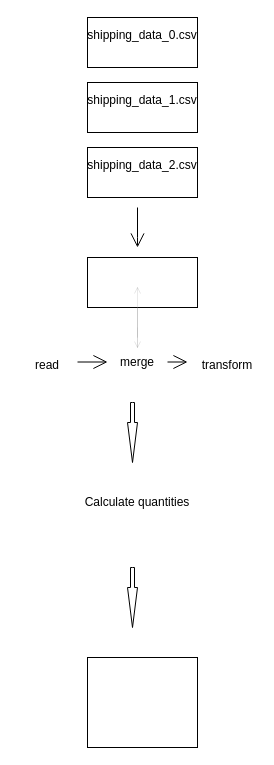
Some shapes in this 274 by 765 pixel diagram are drawn without their labels. The box of each missing label's shape, as (x1, y1, x2, y2) in pixels:
pandas library: (86, 256, 198, 308)
SQlite Database Product table Shipment table: (86, 656, 198, 748)
